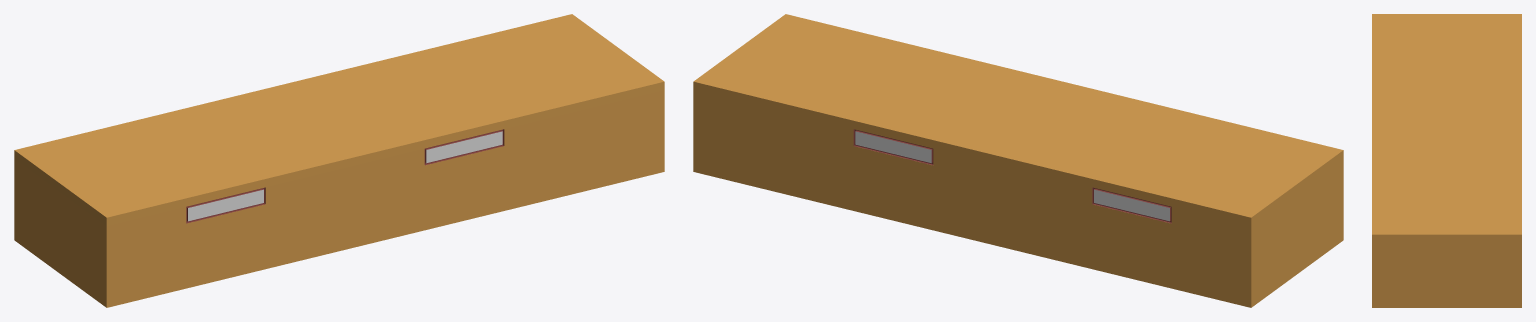
The model's file is Factory.fbx.
The picture shows the model from 3 angles, left to right: view 1: azimuth 30°, elevation 25°; view 2: azimuth 150°, elevation 25°; view 3: azimuth 270°, elevation 25°; orthographic projection. The views are drawn at different scales.
Visible parts, largest first — view 1: Cube; view 2: Cube; view 3: Cube.
Boxes of the visible parts, x1,y1,x2,y2 form: Cube: [14, 14, 664, 307]; Cube: [693, 14, 1343, 307]; Cube: [1372, 14, 1521, 307].
Bounding box in the file's own units: 68988 × 10672 × 19798.
